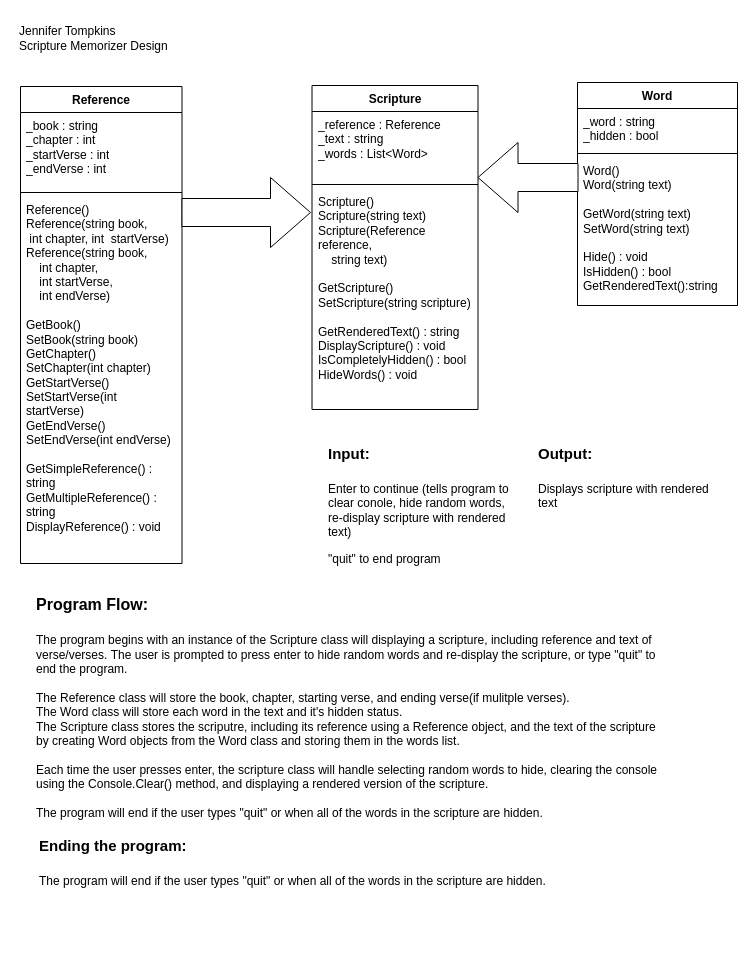
The diagram is 755 pixels wide and 960 high, and some of its shapes have lost their labels. Each missing label, with the box of its shape:
Reference Object: (181, 176, 310, 248)
Word Object: (477, 142, 578, 212)
